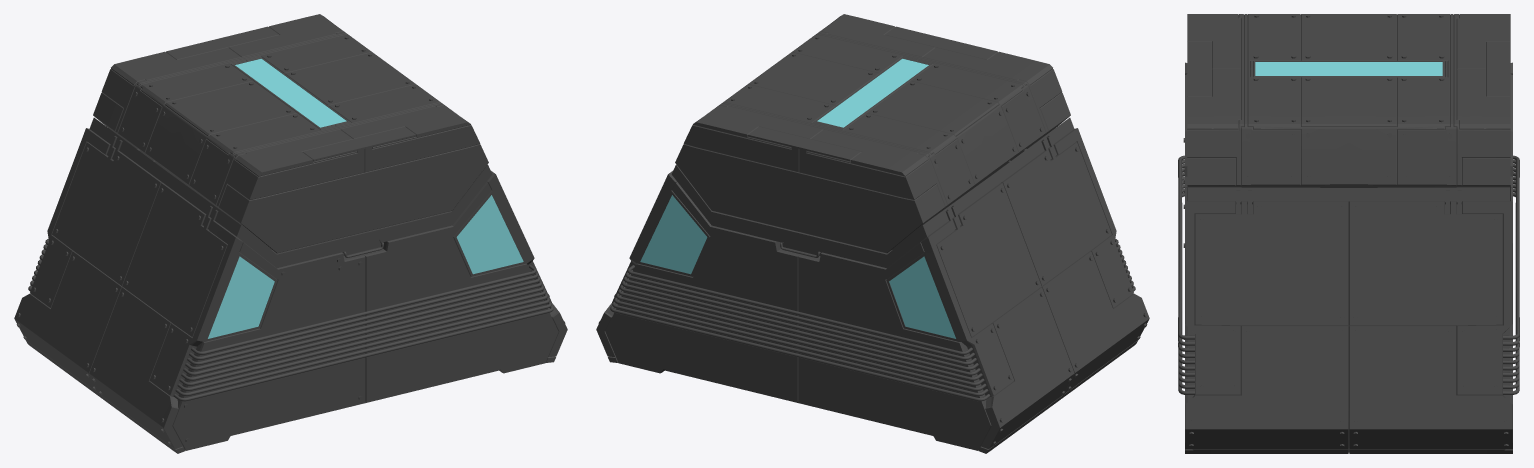
The model's file is recyclingMachine.fbx.
3 renders of one model, left to right at view 1: azimuth 30°, elevation 25°; view 2: azimuth 150°, elevation 25°; view 3: azimuth 270°, elevation 25°, orthographic. The views are drawn at different scales.
Parts seen in each view (by area): view 1: crate.007_low, crate.006_low, crate.005_low, crate.002_low, glass_low.001, glass_low, crate.011_low, crate.014_low; view 2: crate.007_low, crate.006_low, crate.005_low, crate.002_low, glass_low.001, glass_low, crate.011_low, crate.014_low; view 3: crate.007_low, crate.006_low, crate.002_low, crate.005_low, glass_low, crate.011_low, crate.014_low, crate.001_low.
Part boxes in pixels (box(x1,y1,x2,y2)): crate.007_low: box(14, 128, 567, 453); crate.006_low: box(93, 14, 488, 253); crate.005_low: box(28, 238, 553, 401); crate.002_low: box(89, 117, 492, 268); glass_low.001: box(208, 195, 523, 338); glass_low: box(235, 58, 346, 127); crate.011_low: box(16, 147, 565, 445); crate.014_low: box(120, 36, 432, 199); crate.007_low: box(596, 128, 1149, 453); crate.006_low: box(675, 14, 1070, 253); crate.005_low: box(610, 238, 1135, 401); crate.002_low: box(671, 117, 1074, 268); glass_low.001: box(640, 195, 955, 338); glass_low: box(817, 58, 928, 127); crate.011_low: box(598, 147, 1147, 445); crate.014_low: box(731, 36, 1043, 199); crate.007_low: box(1185, 62, 1512, 453); crate.006_low: box(1187, 14, 1510, 200); crate.002_low: box(1188, 187, 1509, 204); crate.005_low: box(1178, 155, 1519, 394); glass_low: box(1255, 62, 1442, 75); crate.011_low: box(1189, 206, 1508, 448); crate.014_low: box(1246, 14, 1451, 180); crate.001_low: box(1236, 190, 1461, 212).
Size of the model in its own units: 316 by 203 by 211.
